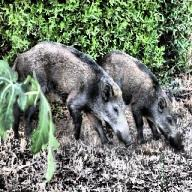boar: (10, 40, 132, 149), (95, 49, 184, 151)
